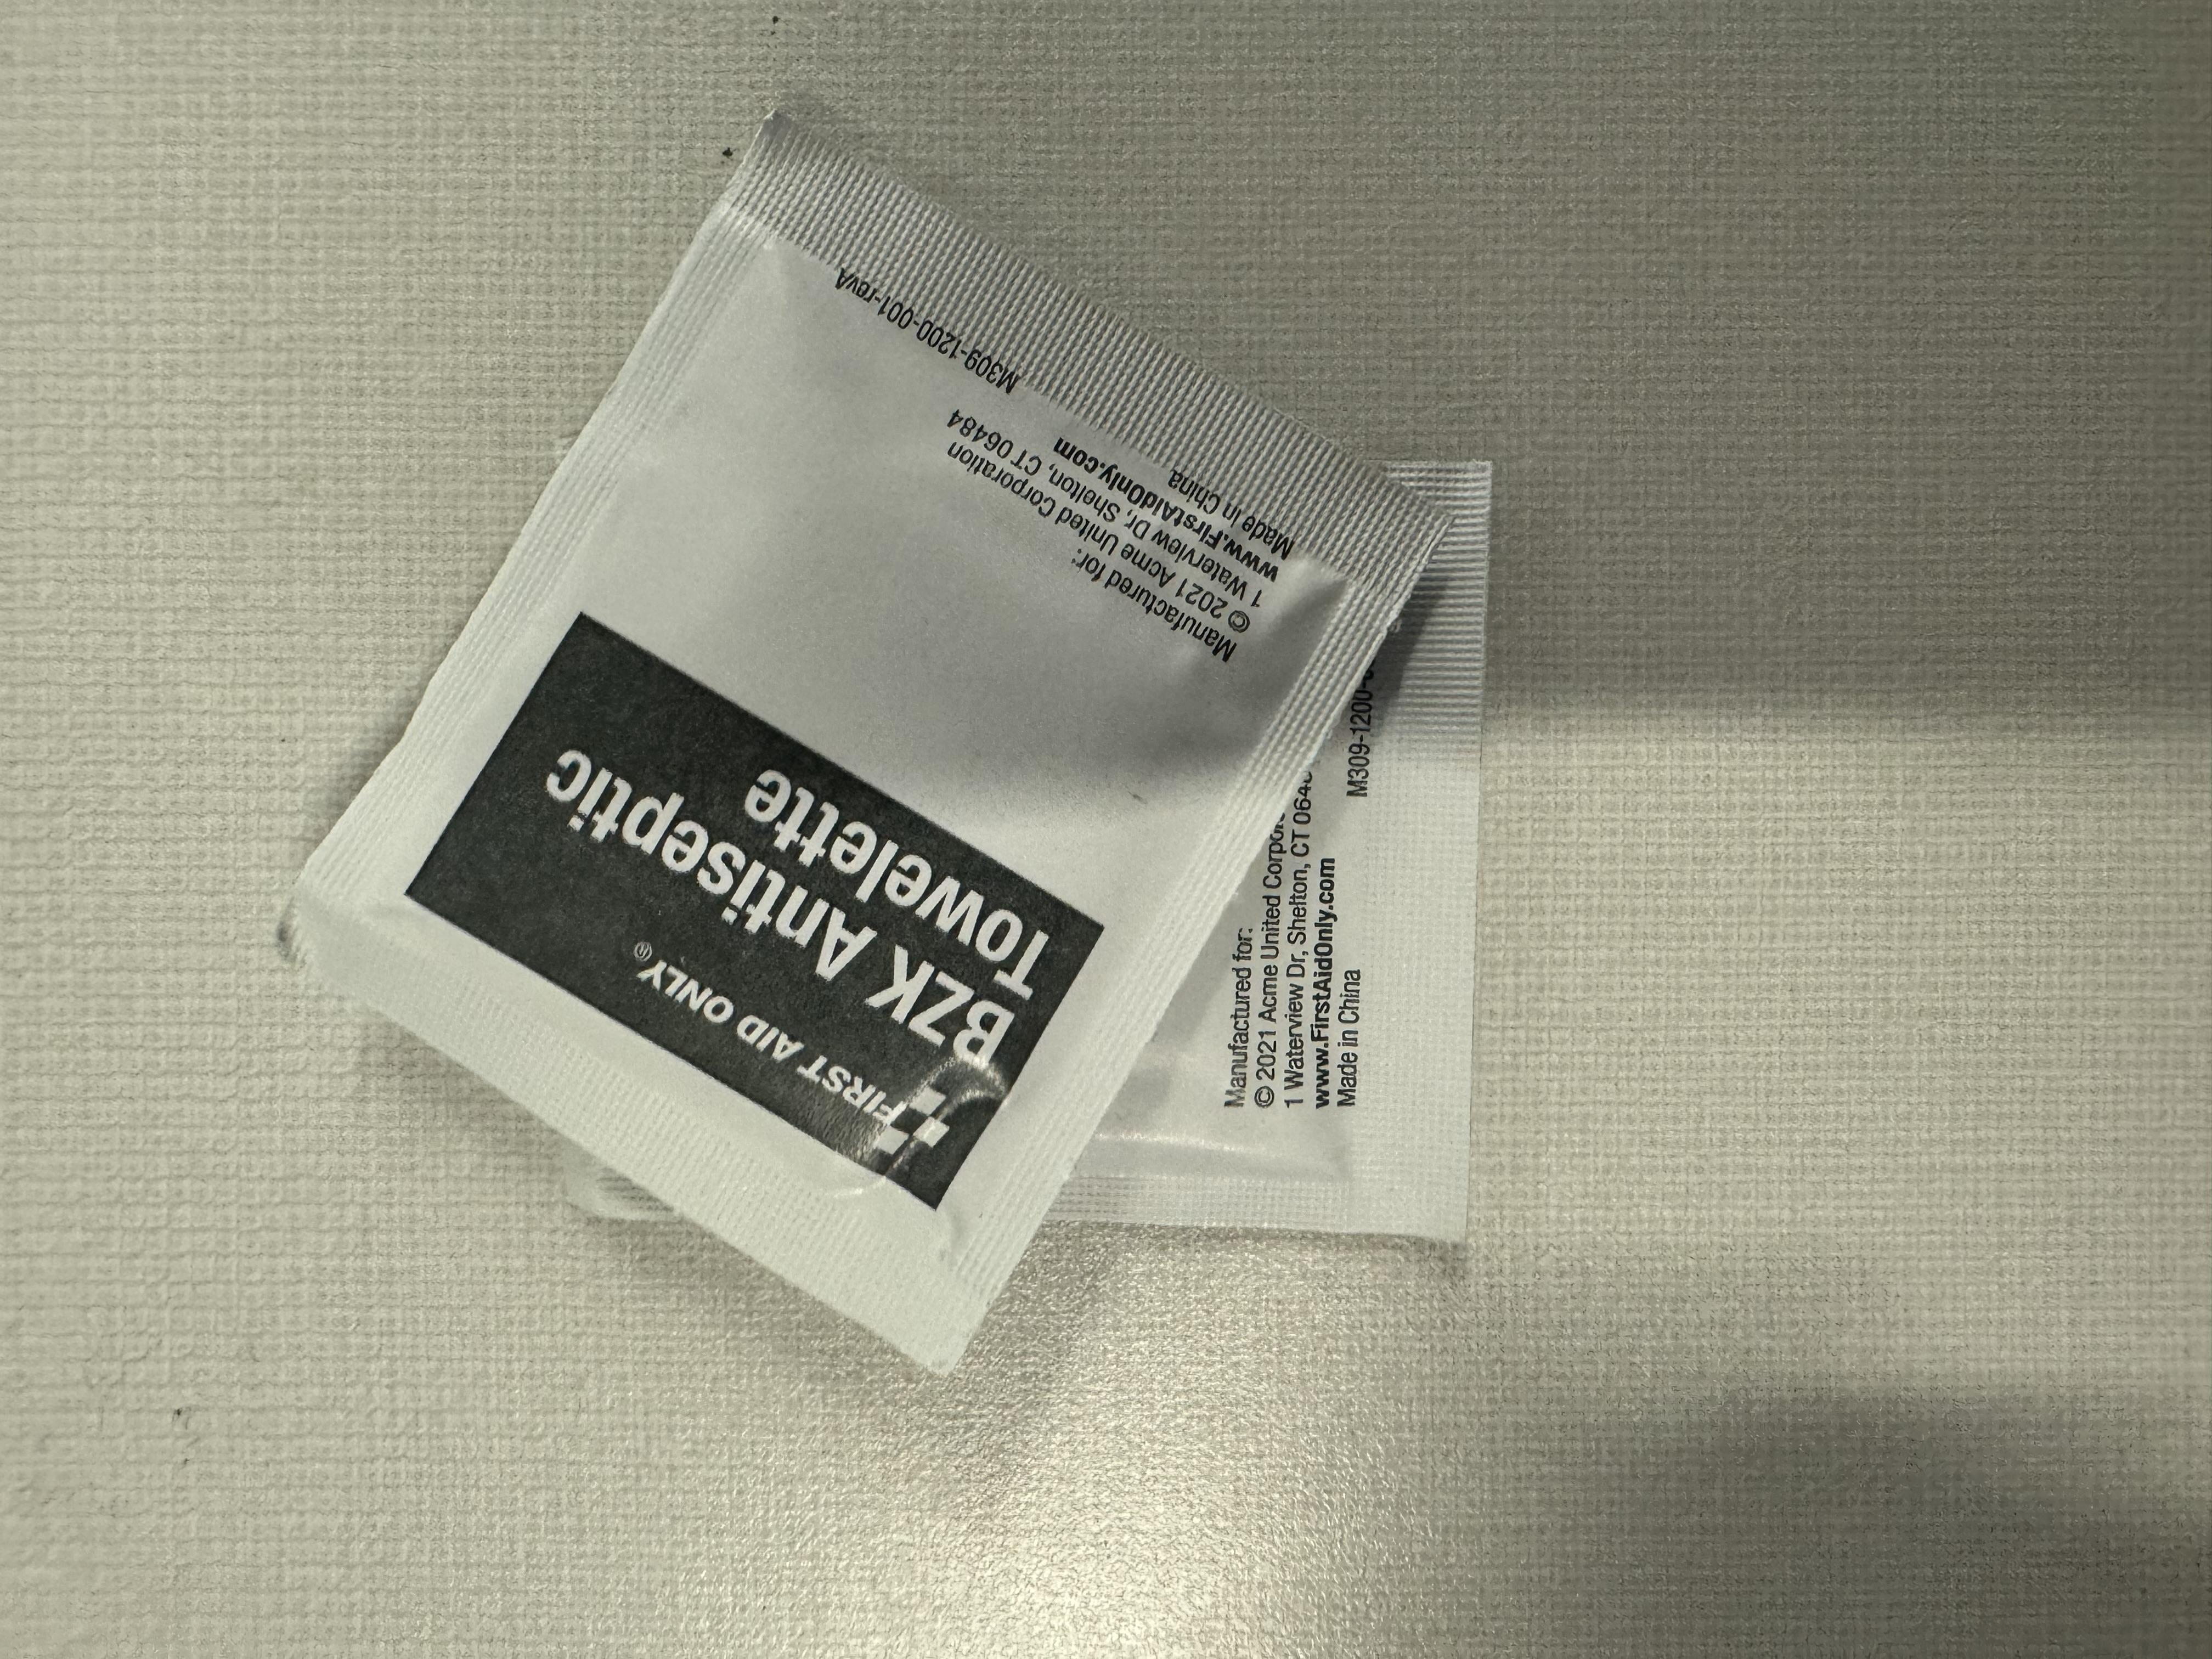antiseptic wipe: (674, 310, 1980, 1619)
